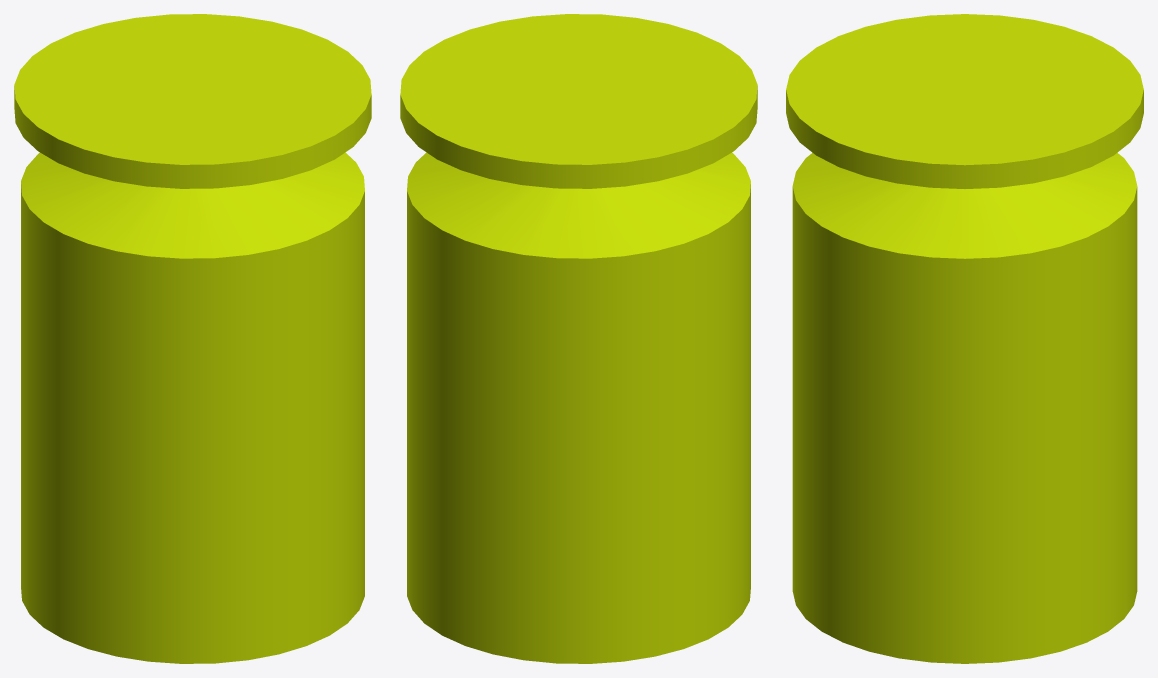
File: piece4.gltf
The picture shows the model from 3 angles, left to right: view 1: azimuth 30°, elevation 25°; view 2: azimuth 150°, elevation 25°; view 3: azimuth 270°, elevation 25°; orthographic projection.
Parts seen in each view (by area): view 1: Cylinder.003; view 2: Cylinder.003; view 3: Cylinder.003.
Boxes of the visible parts, x1,y1,x2,y2 form: Cylinder.003: [14, 14, 371, 663]; Cylinder.003: [400, 14, 757, 663]; Cylinder.003: [786, 14, 1143, 663].
Bounding box in the file's own units: 0.8304 × 1.28 × 0.8304.
